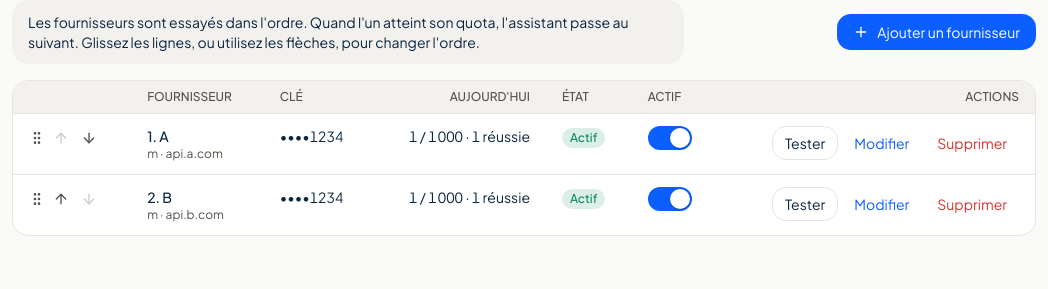
Test case: /assistant › ordre refusé par le serveur : l’ordre précédent revient et un message s’affiche
Click the button with test id "provider-down-a" at {"x": 89, "y": 138}, box [77,126,101,150]
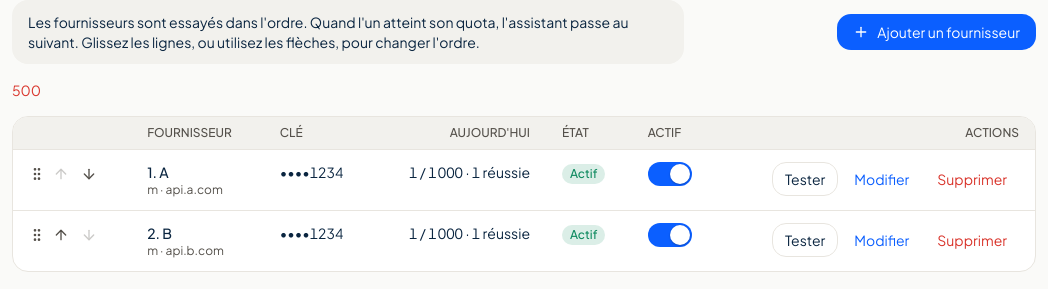
Expected: the message "500" is shown, [12,81,41,99]
